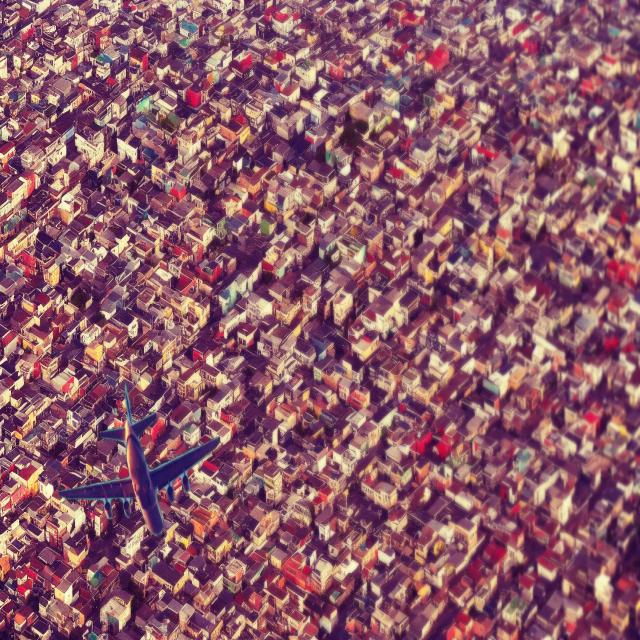airplane: (58, 382, 221, 538)
